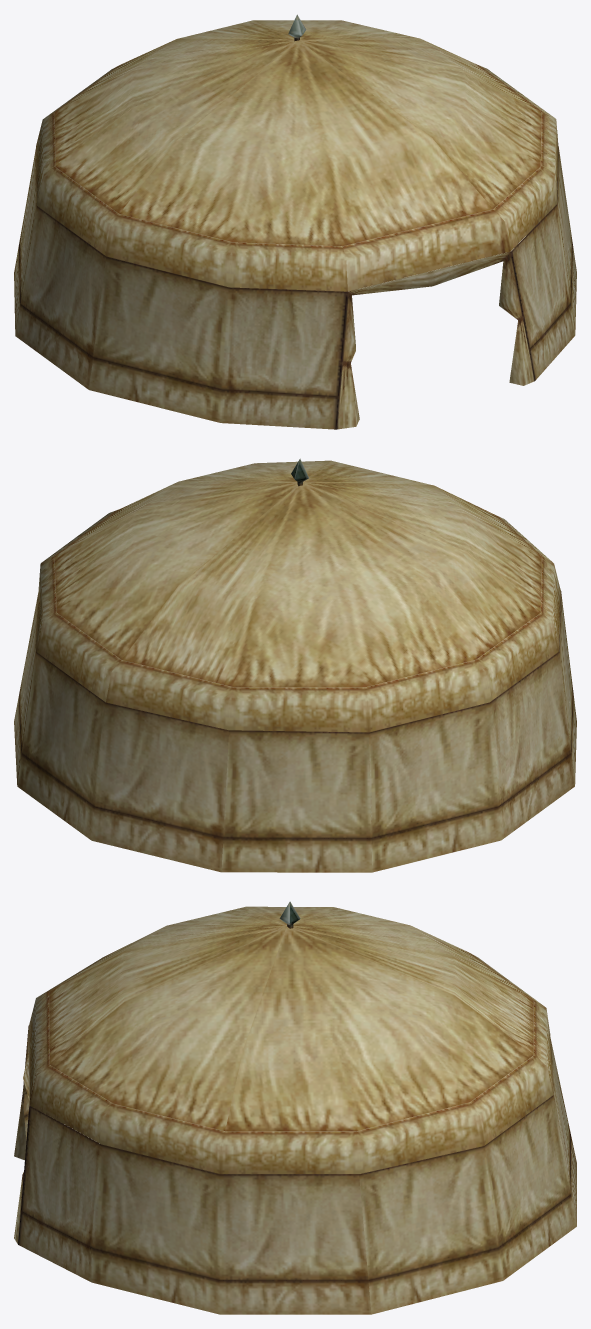
The model's file is general_obj_tent01.fbx.
3 renders of one model, top to bottom at view 1: azimuth 30°, elevation 25°; view 2: azimuth 150°, elevation 25°; view 3: azimuth 270°, elevation 25°, orthographic.
Parts seen in each view (by area): view 1: Mesh02; view 2: Mesh02; view 3: Mesh02.
Part boxes in pixels (x1=…): Mesh02: x1=14, y1=14, x2=576, y2=429; Mesh02: x1=14, y1=458, x2=576, y2=872; Mesh02: x1=14, y1=901, x2=576, y2=1314.
Size of the model in its own units: 11.36 by 6.53 by 11.34.
